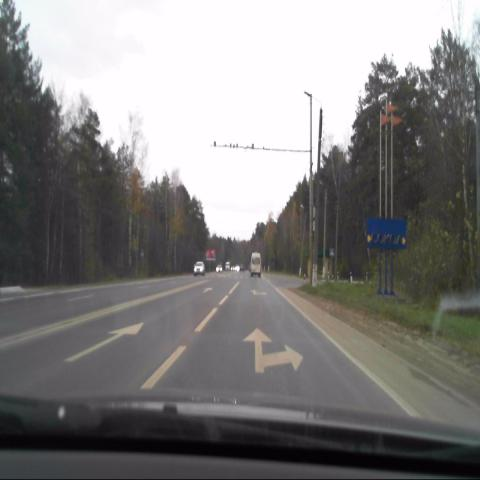5_19_1: (328, 245, 336, 258)
